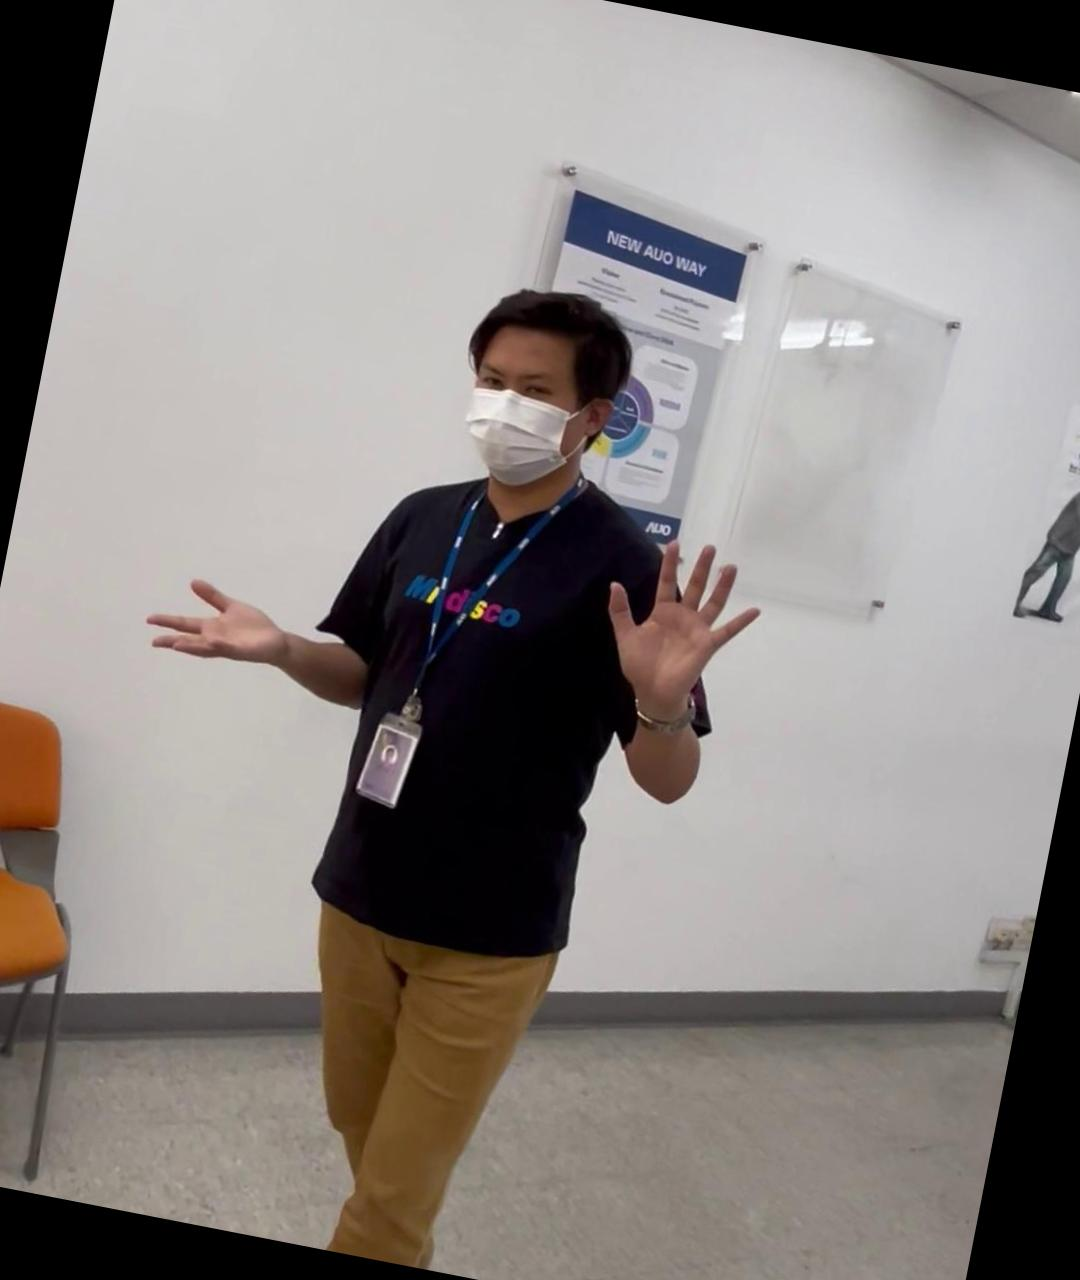No-gloves: (585, 517, 771, 725), (138, 567, 299, 683)
